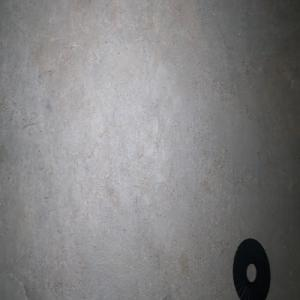Washer: (232, 238, 270, 300)
